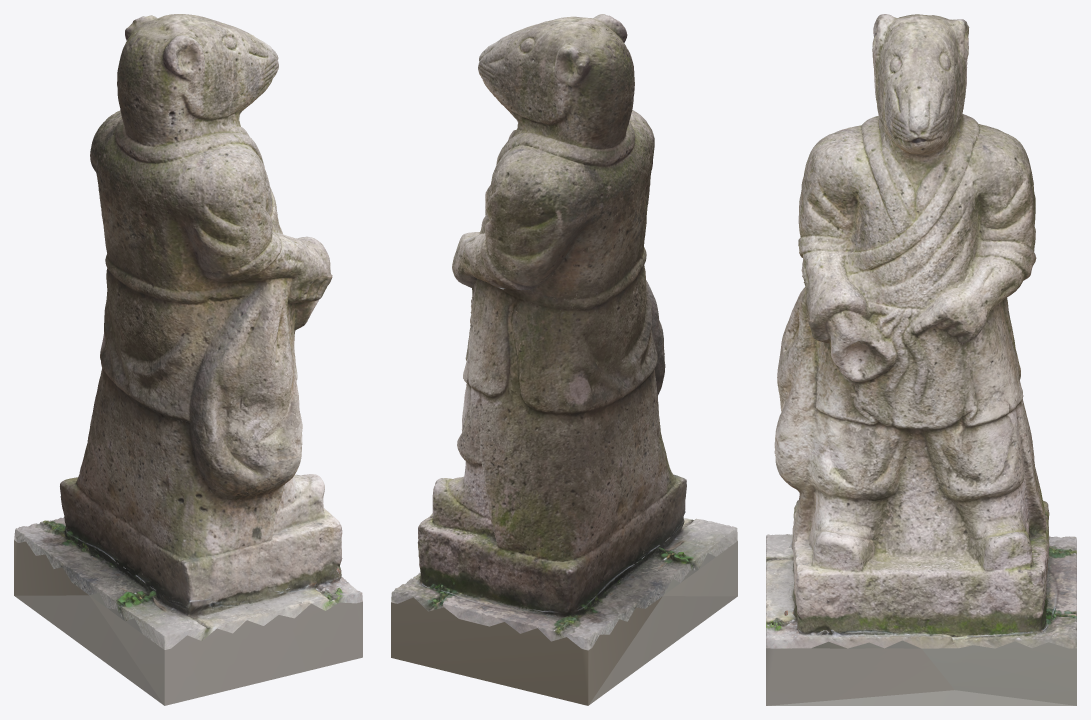
Rendered from obj_stone_sculpture_mouse_01_c59c34.glb.
The picture shows the model from 3 angles, left to right: view 1: azimuth 30°, elevation 25°; view 2: azimuth 150°, elevation 25°; view 3: azimuth 270°, elevation 25°; orthographic projection. The views are drawn at different scales.
Parts seen in each view (by area): view 1: obj_stone_sculpture_mouse_01_c59c34; view 2: obj_stone_sculpture_mouse_01_c59c34; view 3: obj_stone_sculpture_mouse_01_c59c34.
Boxes of the visible parts, bbox=[...] form: obj_stone_sculpture_mouse_01_c59c34: bbox=[14, 14, 362, 705]; obj_stone_sculpture_mouse_01_c59c34: bbox=[391, 14, 737, 705]; obj_stone_sculpture_mouse_01_c59c34: bbox=[766, 14, 1076, 705].
Bounding box in the file's own units: 0.0681 × 0.2 × 0.0895.
1 material, 1 textured.
